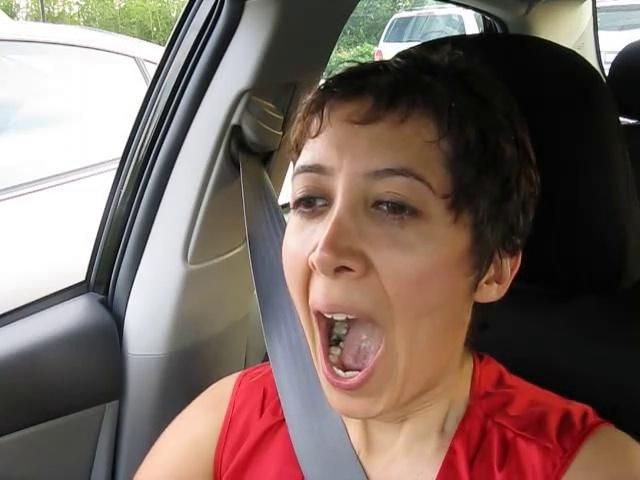close_eyeL: (279, 181, 343, 229)
close_eyeR: (351, 185, 438, 234)
yawn: (285, 295, 409, 403)
